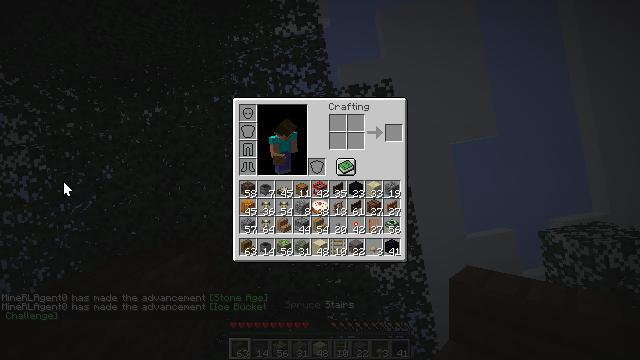cursor: (63, 181, 73, 197)
